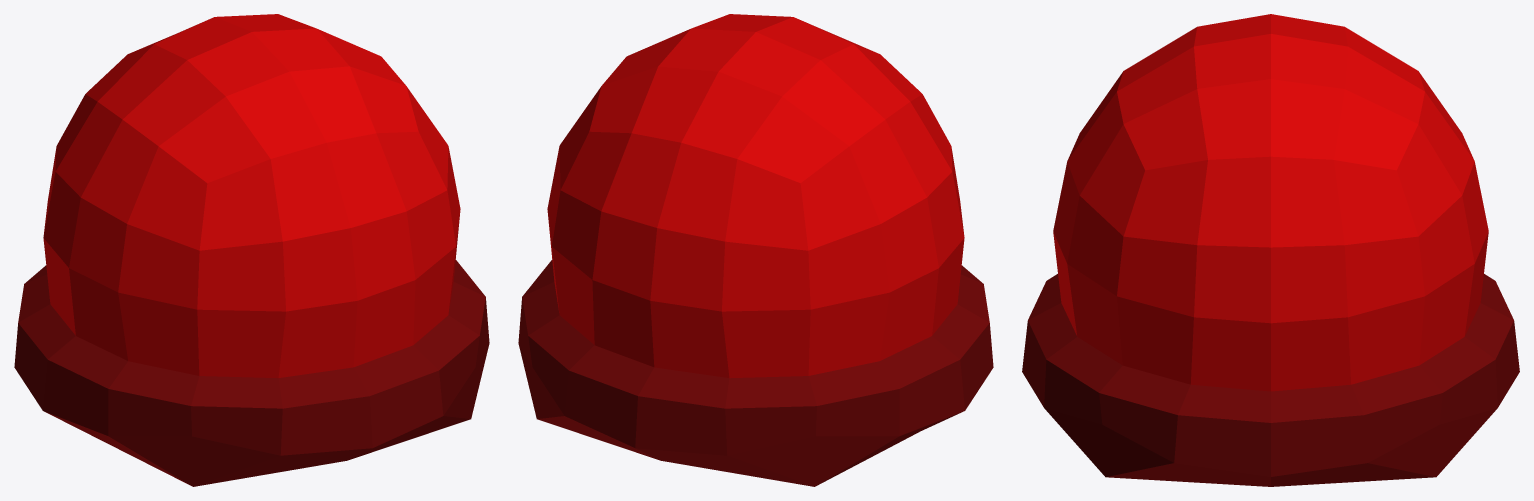
The model's file is Scoop.fbx.
The picture shows the model from 3 angles, left to right: view 1: azimuth 30°, elevation 25°; view 2: azimuth 150°, elevation 25°; view 3: azimuth 270°, elevation 25°; orthographic projection. The views are drawn at different scales.
Visible parts, largest first — view 1: Scoop1; view 2: Scoop1; view 3: Scoop1.
Part boxes in pixels (x1,y1,x2,y2): Scoop1: (14,14,489,486); Scoop1: (518,14,993,486); Scoop1: (1022,14,1519,486).
Size of the model in its own units: 9.65 by 7.99 by 9.65.
